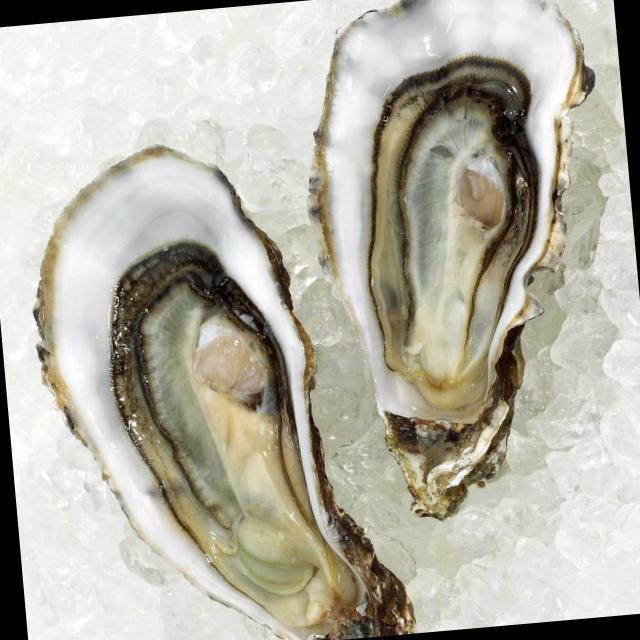Oyster-Open: (34, 147, 414, 640), (309, 0, 593, 520)
